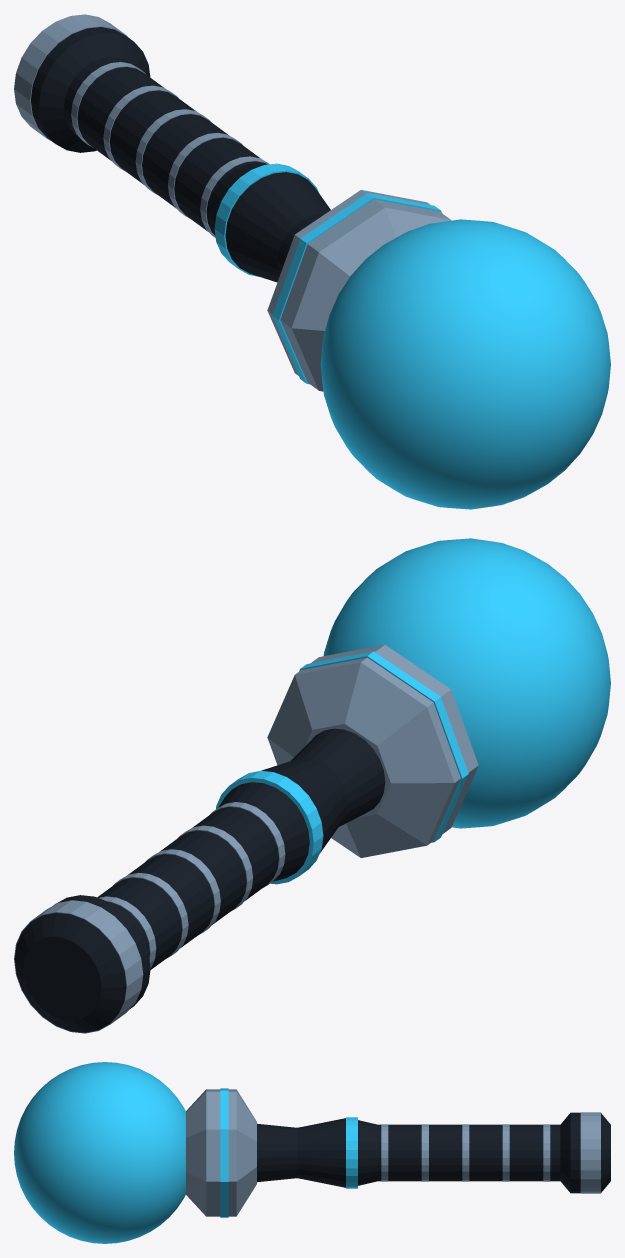
File: SM_StellarFreezing.obj
The picture shows the model from 3 angles, top to bottom: view 1: azimuth 30°, elevation 25°; view 2: azimuth 150°, elevation 25°; view 3: azimuth 270°, elevation 25°; orthographic projection. The views are drawn at different scales.
Visible parts, largest first — view 1: SM_StellarFreezing; view 2: SM_StellarFreezing; view 3: SM_StellarFreezing.
Boxes of the visible parts, x1=… form: SM_StellarFreezing: x1=14, y1=14, x2=610, y2=509; SM_StellarFreezing: x1=14, y1=538, x2=610, y2=1033; SM_StellarFreezing: x1=14, y1=1062, x2=610, y2=1243.
Bounding box in the file's own units: 18 × 18 × 59.
